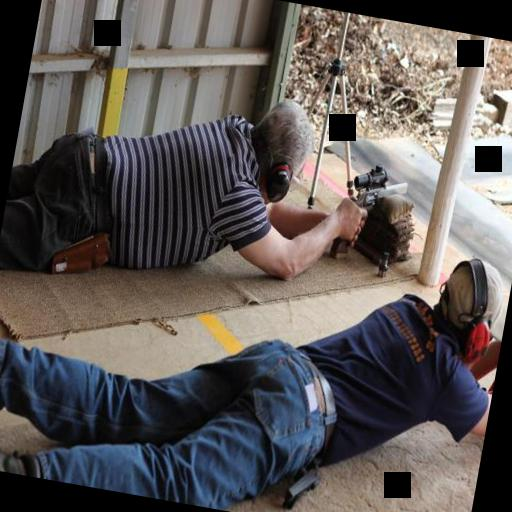Handgun: (328, 153, 409, 268)
